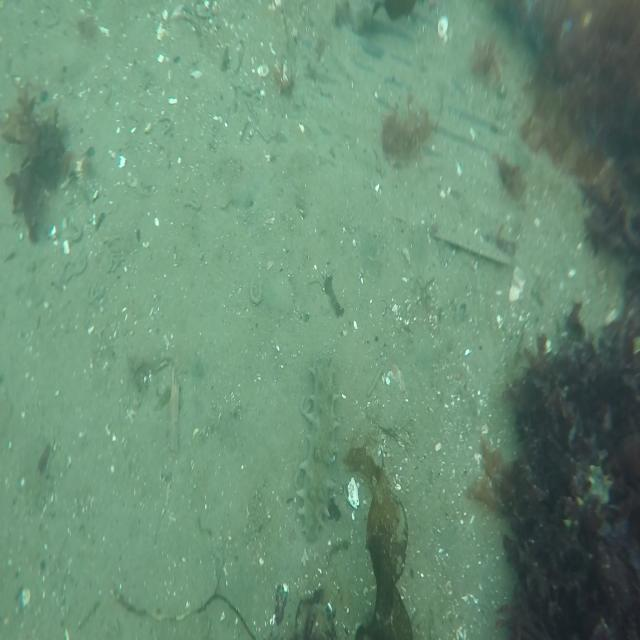holothurian: (292, 356, 340, 538)
